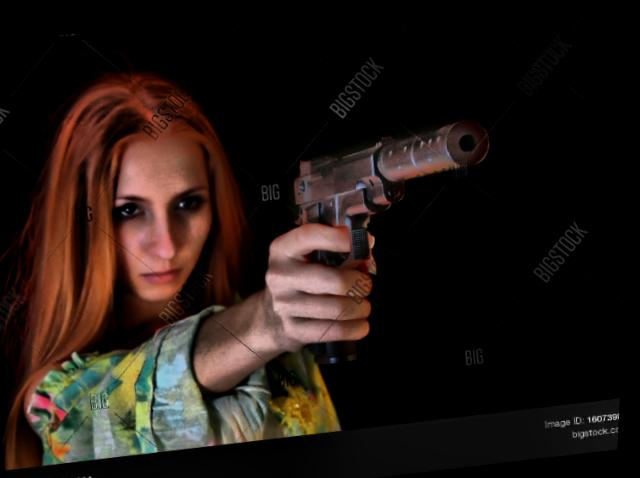pistol: (278, 108, 522, 367)
